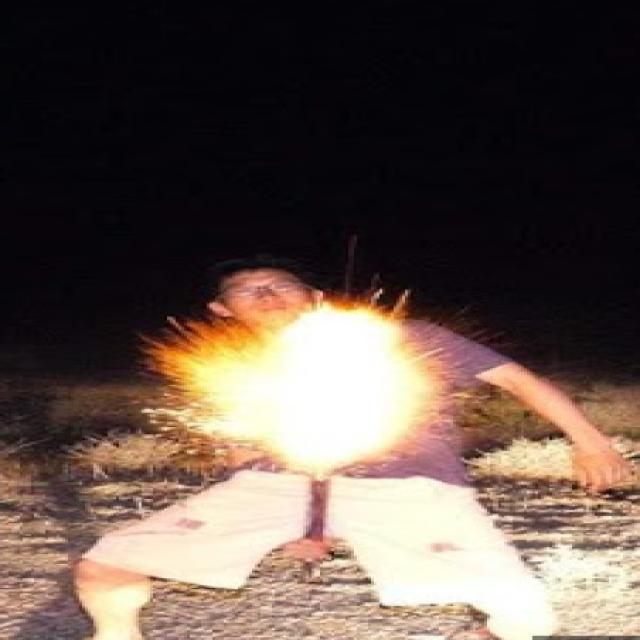fire: (140, 289, 456, 481)
